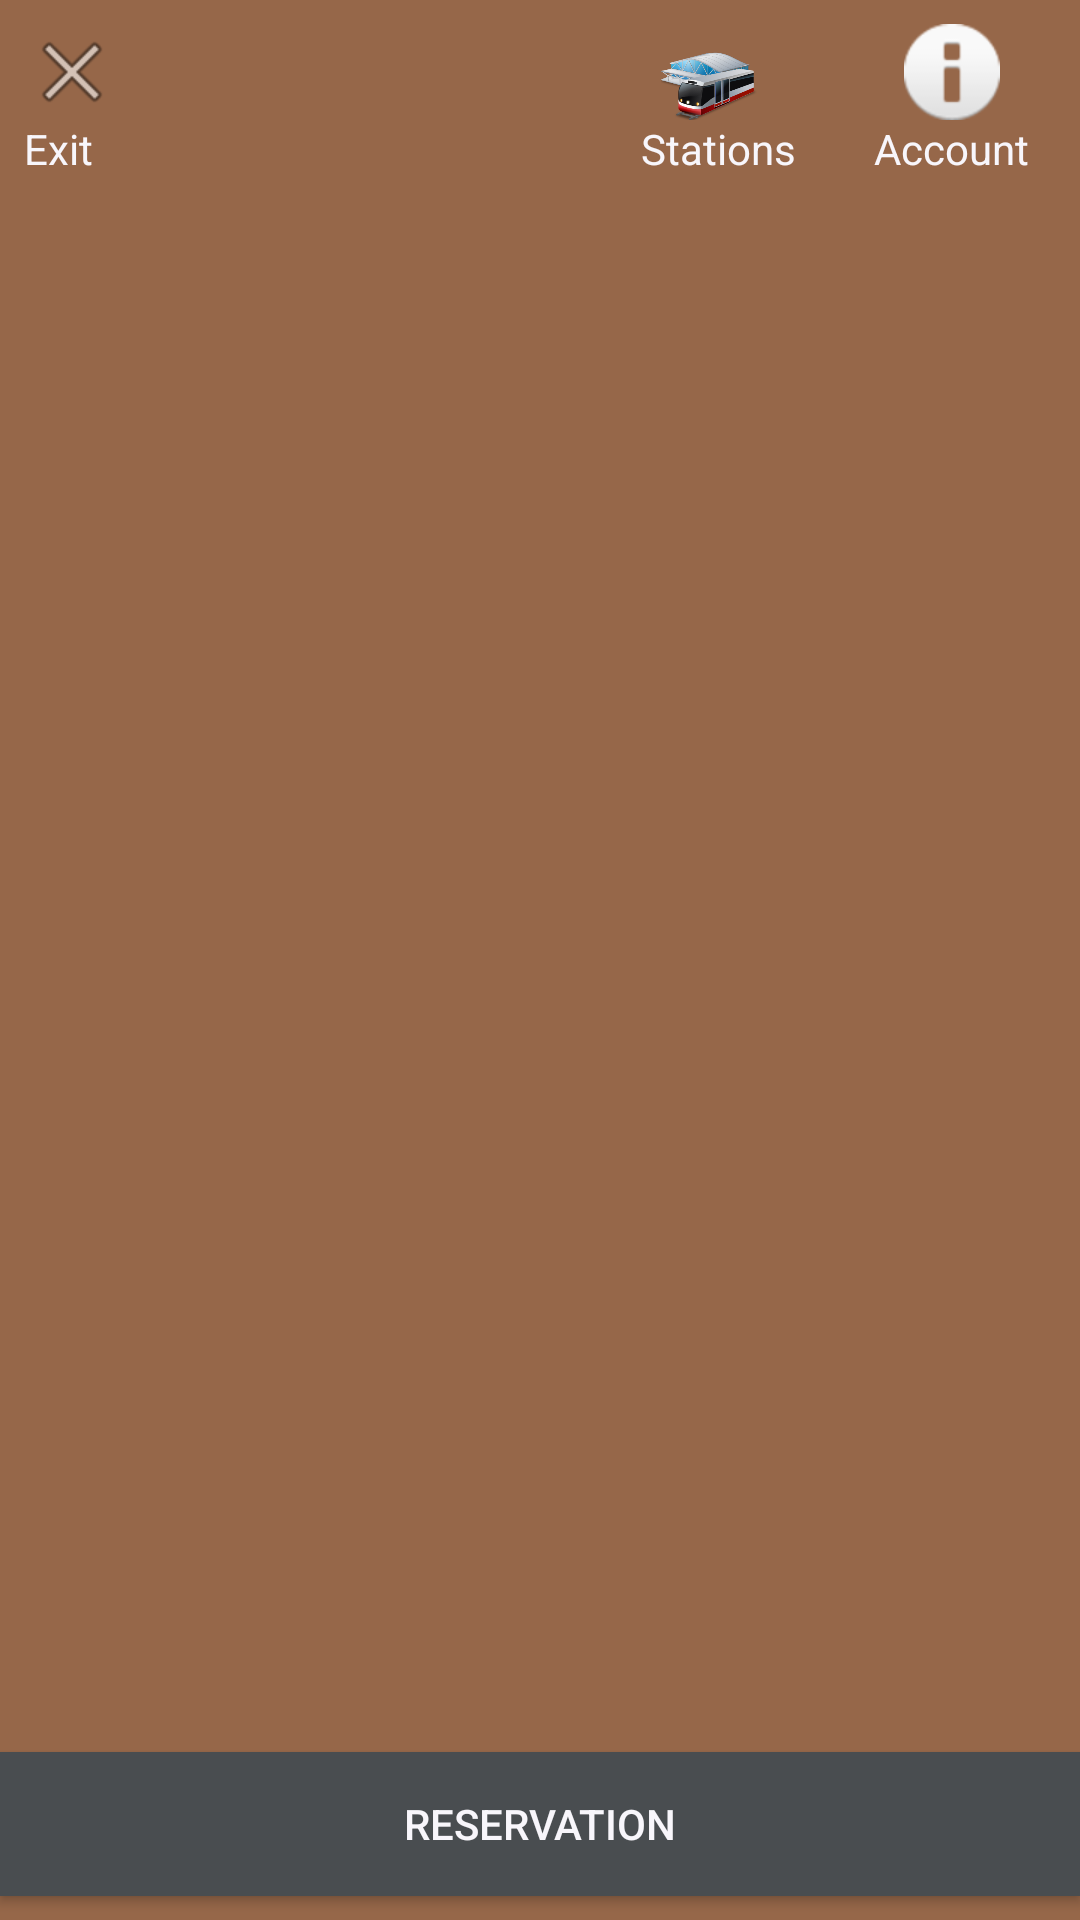

Icon bounding boxes for this 1080 × 1920 phone screenshot, format (x1, y1, x2, y2):
close clear cancel: (42, 42, 102, 102)
info: (904, 24, 1000, 120)
